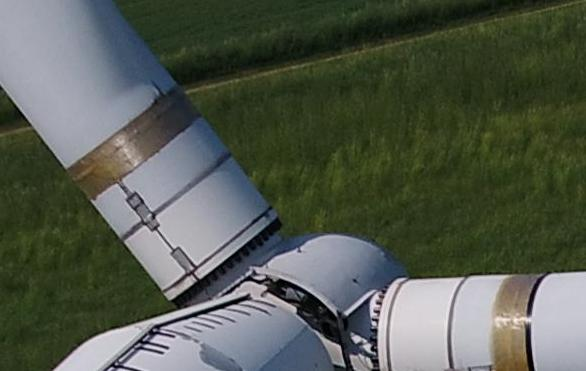damage: (199, 342, 244, 371)
